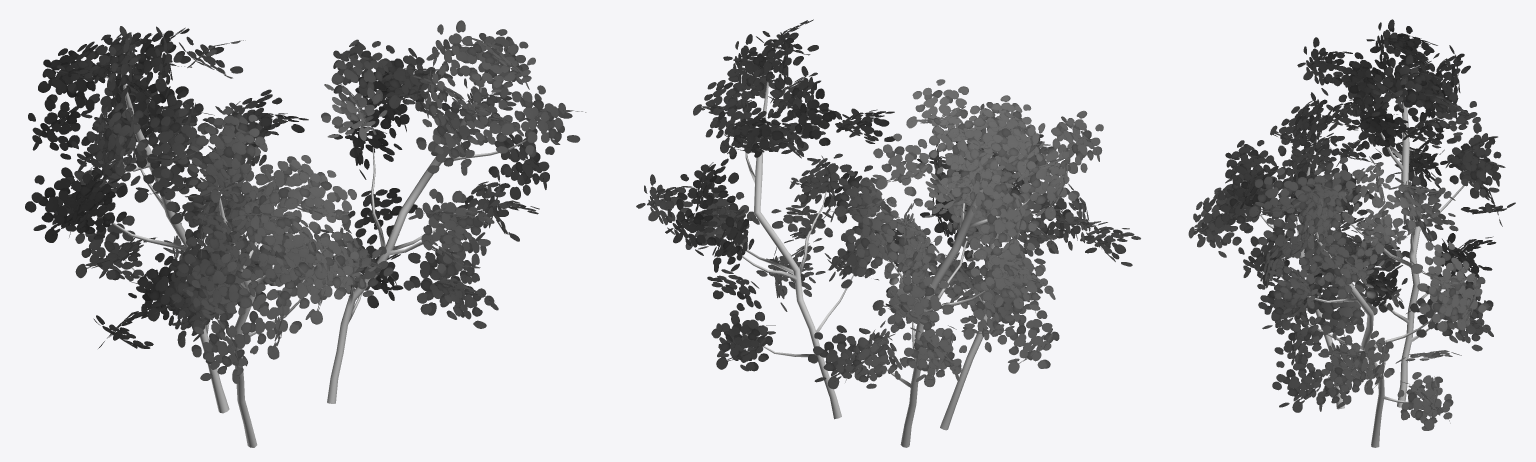
The model's file is SM_Bush_03.fbx.
3 renders of one model, left to right at view 1: azimuth 30°, elevation 25°; view 2: azimuth 150°, elevation 25°; view 3: azimuth 270°, elevation 25°, orthographic. The views are drawn at different scales.
Visible parts, largest first — view 1: SM_Bush_03_LOD0; view 2: SM_Bush_03_LOD0; view 3: SM_Bush_03_LOD0.
Part boxes in pixels (x1,y1,x2,y2): SM_Bush_03_LOD0: [25, 20, 586, 447]; SM_Bush_03_LOD0: [636, 19, 1140, 447]; SM_Bush_03_LOD0: [1188, 19, 1515, 447].
Size of what is drawn, in the model's own units: 2.61 by 2.07 by 1.82.
